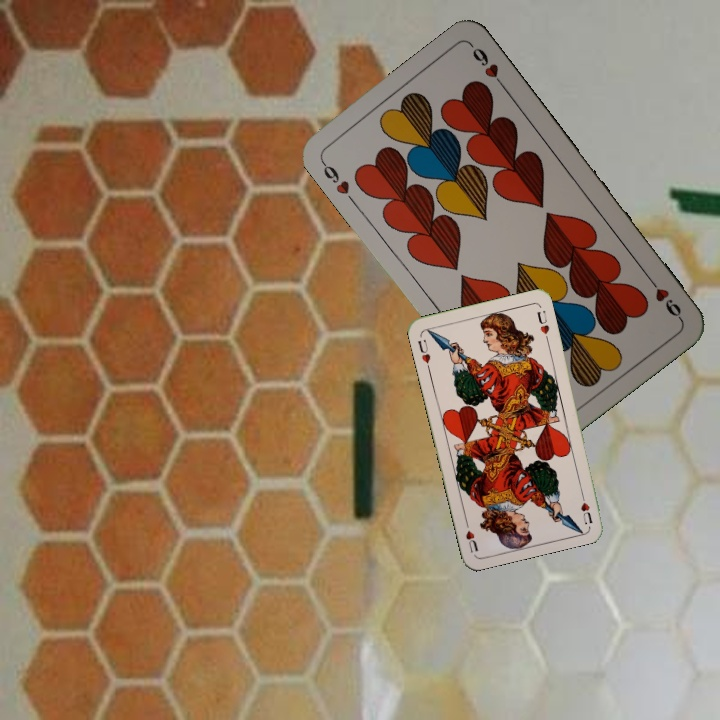H9: (643, 272, 684, 322), (317, 156, 352, 197)
HU: (577, 487, 595, 527), (414, 335, 433, 372)
